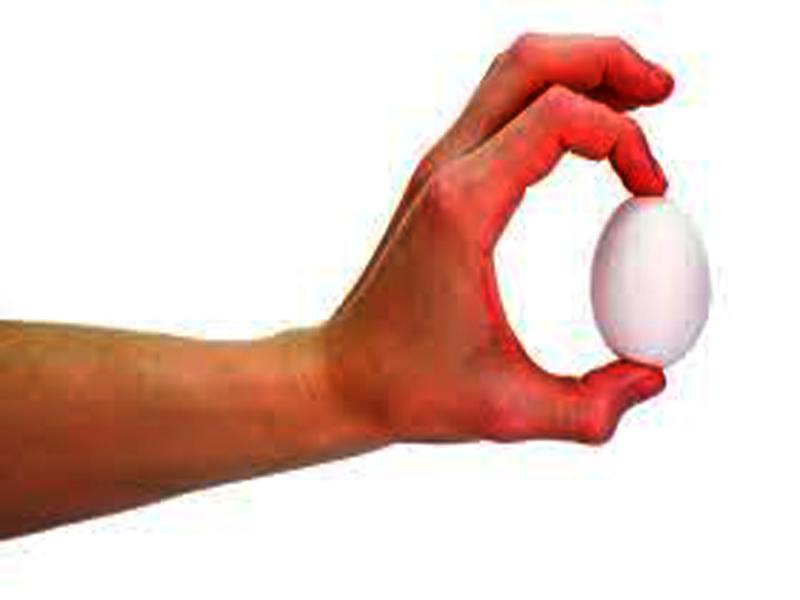Eggs: (590, 193, 710, 367)
